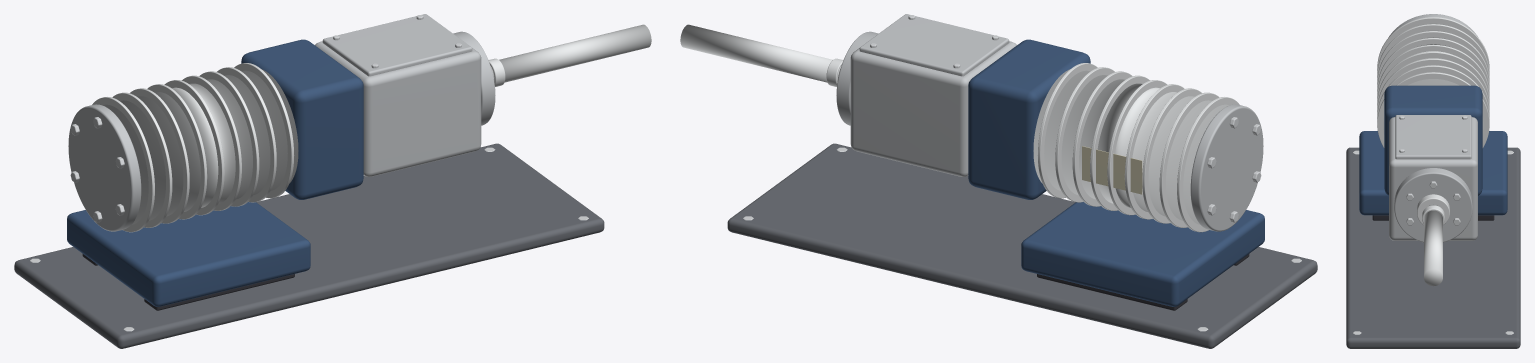
File: drive_unit.glb
3 renders of one model, left to right at view 1: azimuth 30°, elevation 25°; view 2: azimuth 150°, elevation 25°; view 3: azimuth 270°, elevation 25°, orthographic. The views are drawn at different scales.
Visible parts, largest first — view 1: drive baseplate, drive motor cradle, motor steel body, reduction gearbox, motor fan shroud, motor end cap, gearbox cover plate, drive shaft, motor fin 1, motor fin 7, motor fin 2, motor fin 8 (+7 smaller); view 2: drive baseplate, drive motor cradle, reduction gearbox, motor steel body, motor fan shroud, motor end cap, gearbox cover plate, drive shaft, motor data plate, motor fin 1, motor fin 7, motor fin 2 (+8 smaller); view 3: drive baseplate, drive motor cradle, motor fan shroud, gearbox output flange, gearbox cover plate, reduction gearbox, drive shaft, motor fin 9, motor fin 1, motor fin 2, motor fin 3, motor fin 7 (+8 smaller).
Part boxes in pixels (x1,y1,x2,y2): drive baseplate: (14, 143, 604, 348); drive motor cradle: (67, 202, 310, 306); motor steel body: (102, 69, 298, 224); reduction gearbox: (315, 41, 481, 176); motor fan shroud: (241, 39, 363, 199); motor end cap: (68, 104, 141, 231); gearbox cover plate: (322, 14, 472, 76); drive shaft: (490, 24, 651, 82); motor fin 1: (92, 97, 154, 232); motor fin 7: (199, 71, 259, 206); motor fin 2: (112, 92, 172, 227); motor fin 8: (217, 67, 276, 202); drive baseplate: (727, 143, 1317, 348); drive motor cradle: (1021, 202, 1264, 306); reduction gearbox: (850, 41, 1016, 176); motor steel body: (1033, 69, 1229, 224); motor fan shroud: (968, 39, 1090, 199); motor end cap: (1190, 104, 1263, 231); gearbox cover plate: (859, 14, 1009, 76); drive shaft: (680, 24, 841, 82); motor data plate: (1082, 146, 1142, 194); motor fin 1: (1177, 97, 1239, 232); motor fin 7: (1072, 71, 1132, 206); motor fin 2: (1159, 92, 1219, 227); drive baseplate: (1346, 147, 1520, 348); drive motor cradle: (1359, 131, 1507, 215); motor fan shroud: (1384, 85, 1482, 195); gearbox output flange: (1394, 168, 1472, 242); gearbox cover plate: (1395, 115, 1471, 159); reduction gearbox: (1389, 117, 1477, 240); drive shaft: (1424, 205, 1442, 286); motor fin 9: (1377, 72, 1489, 147); motor fin 1: (1377, 17, 1489, 70); motor fin 2: (1377, 24, 1489, 77); motor fin 3: (1377, 31, 1489, 84); motor fin 7: (1377, 58, 1489, 111).
Size of the model in its own units: 1.25 by 0.407 by 0.4.
